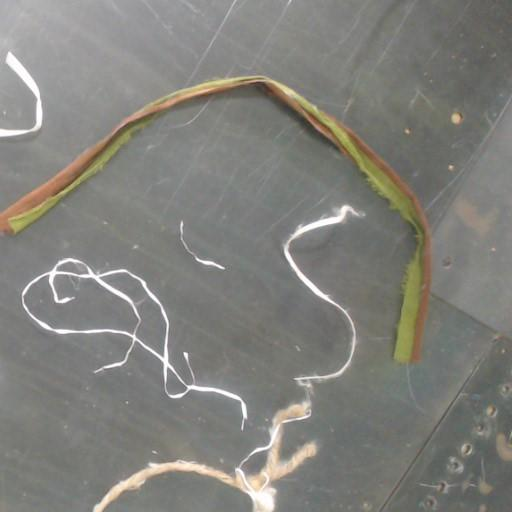cloth: (0, 76, 430, 363)
jute: (93, 399, 317, 511)
thread: (22, 258, 246, 427), (283, 205, 360, 383), (0, 52, 42, 137), (180, 222, 224, 269)
